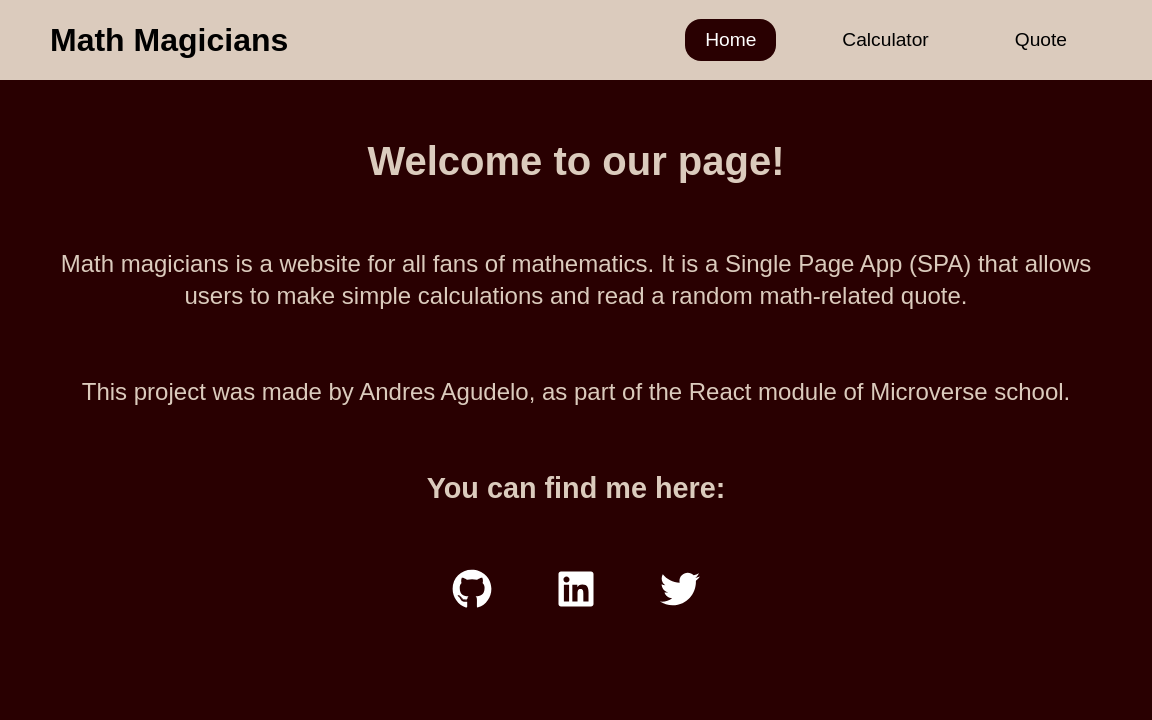
Scenario: App › When the user clicks Calculator, it displays the Calculator component
The image size is (1152, 720).
Click the link "Calculator" at {"x": 886, "y": 40}, box [842,29,929,50]
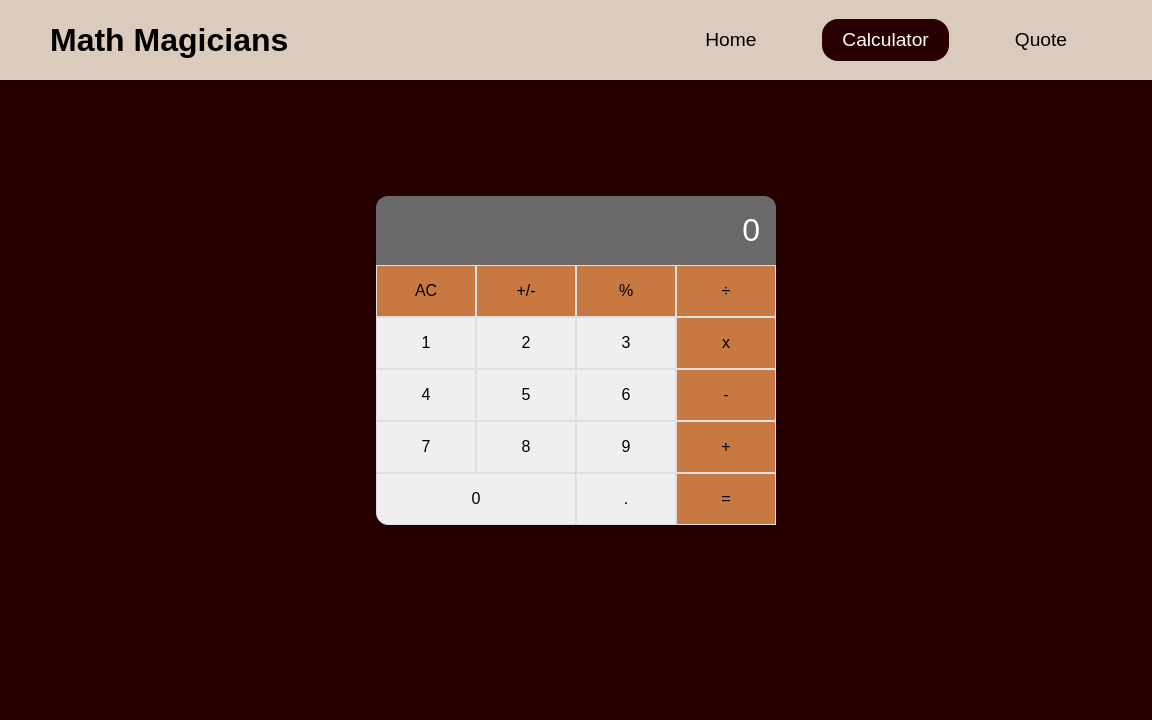
Expected: the button "AC" is shown, [376,264,476,316]
Result: the button "=" is shown at [676,472,776,524]
Result: the button "÷" is shown at [676,264,776,316]
